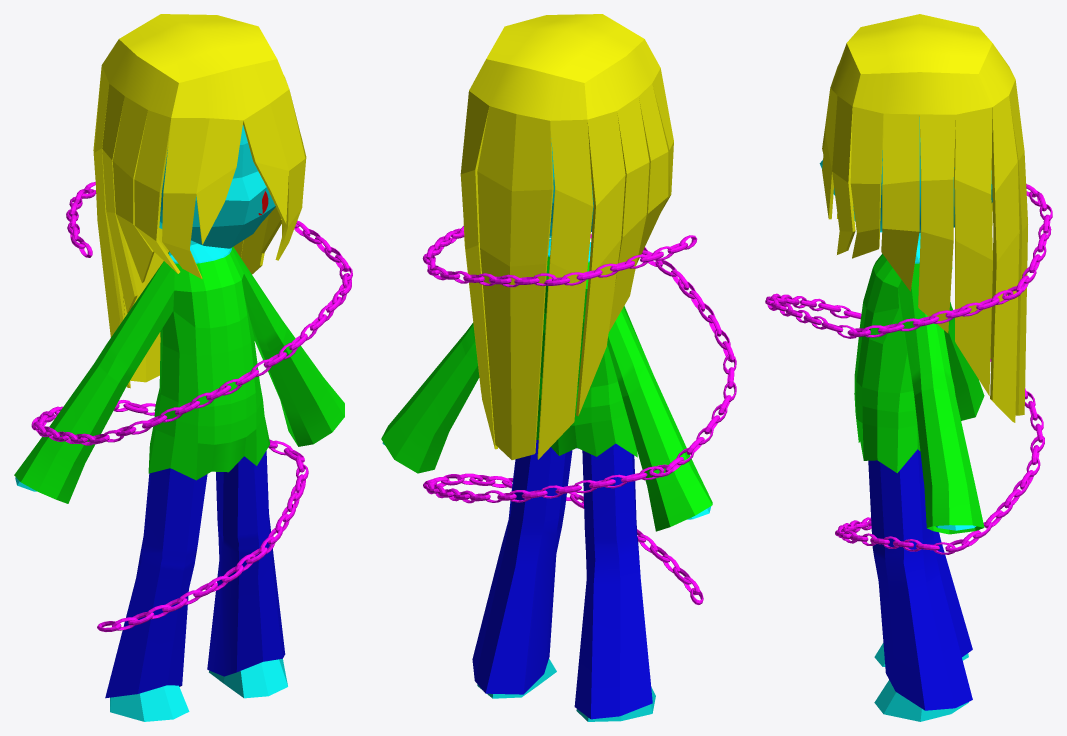
The model's file is DEPRESSION.fbx.
3 views of the same model, side by side, from view 1: azimuth 30°, elevation 25°; view 2: azimuth 150°, elevation 25°; view 3: azimuth 270°, elevation 25° (orthographic). The views are drawn at different scales.
Parts seen in each view (by area): view 1: pCylinder17; view 2: pCylinder17; view 3: pCylinder17.
Part boxes in pixels (box(x1,y1,x2,y2)): pCylinder17: box(14, 14, 352, 721); pCylinder17: box(381, 14, 736, 721); pCylinder17: box(765, 14, 1052, 721).
Bounding box in the file's own units: 215 × 418 × 168.
